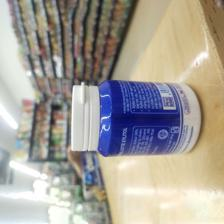Xylitol_blue: (68, 79, 205, 158)
